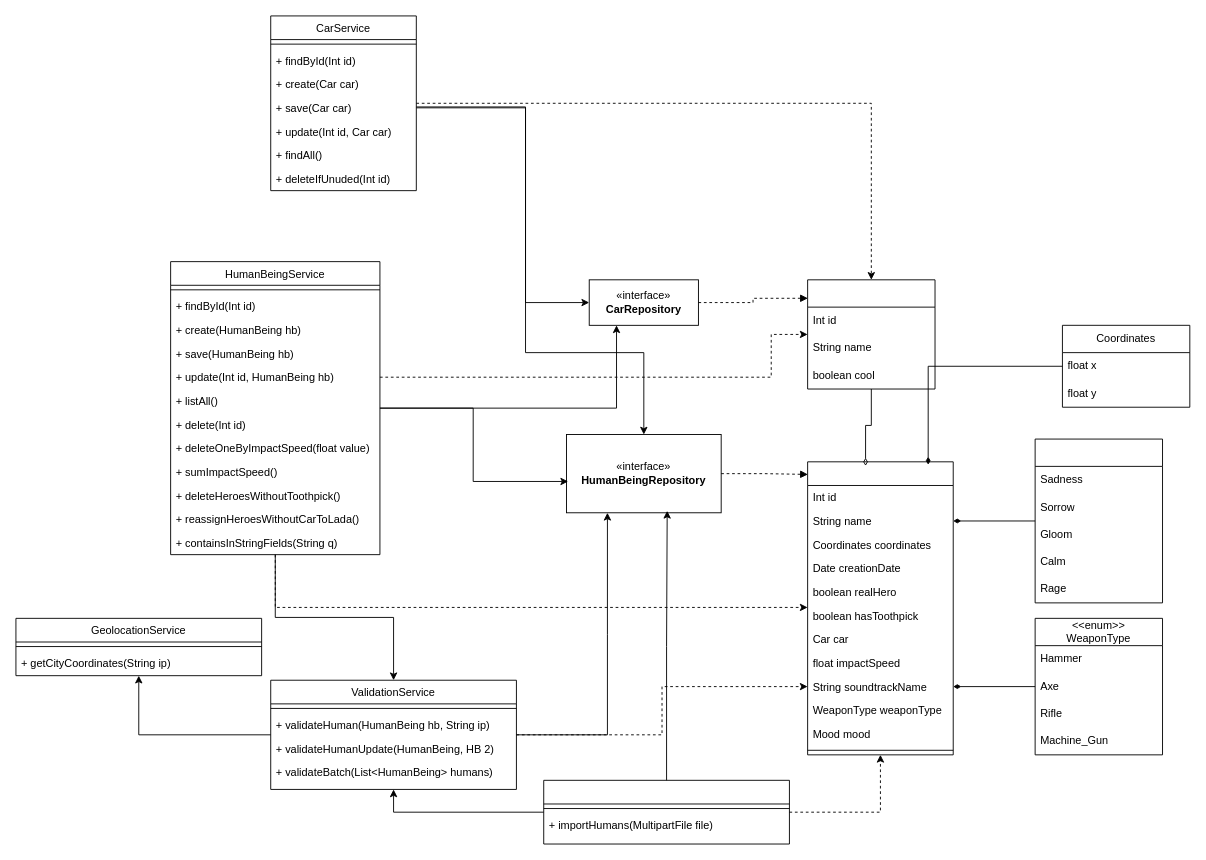
Image size: 1206x860. Some labels were removed from this diagram. Each missing label, with the box of its shape:
<<enum>> Mood: (1034, 438, 1163, 603)
Car: (807, 279, 935, 389)
HumanBeing: (807, 461, 953, 755)
ImportService: (543, 779, 789, 844)
